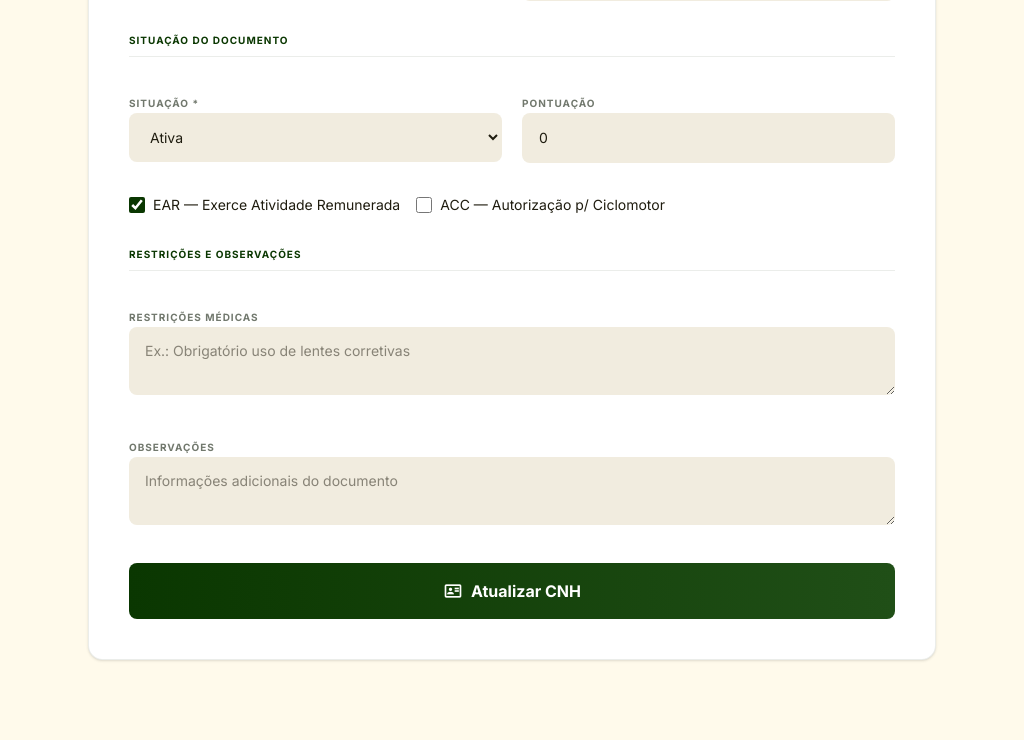
Test: explains why saving failed (0)
(page scrolled)
Step 1. Click the button "Atualizar CNH" → (512, 590), box x1=129 y1=562 x2=895 y2=618
(page scrolled)
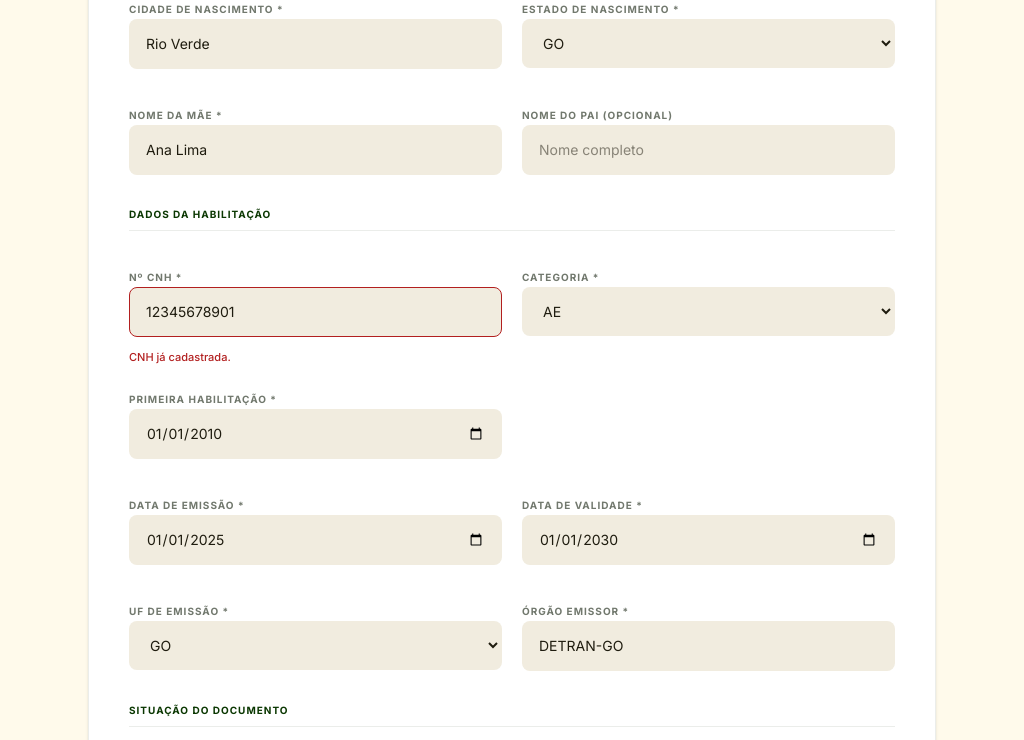
expect the text "CNH já cadastrada." is shown: met, box x1=129 y1=350 x2=231 y2=364
